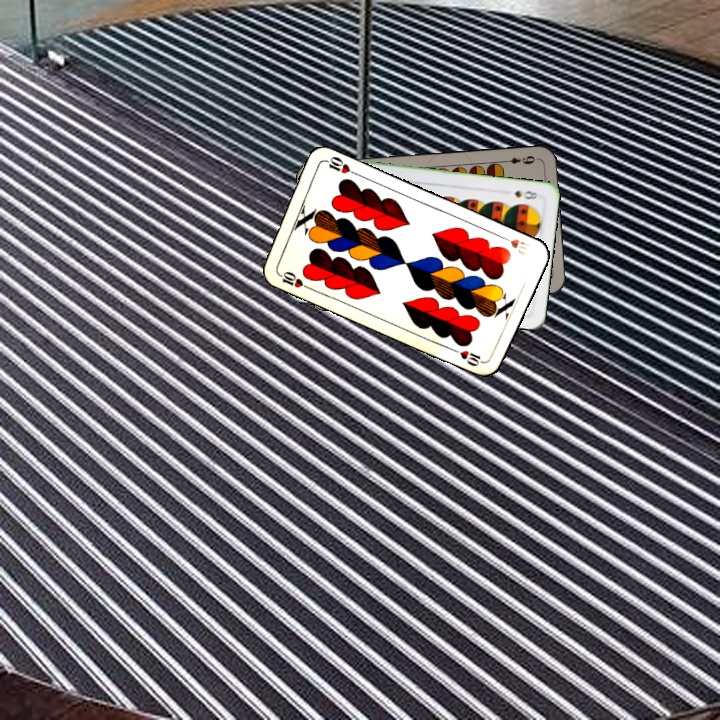E9: (499, 152, 540, 166)
H10: (496, 231, 533, 258), (274, 267, 312, 292)
S8: (511, 187, 541, 202)
